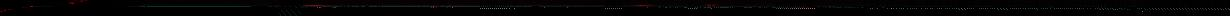Blue cone: (22, 7, 27, 8), (7, 9, 12, 10)
Yellow cone: (704, 4, 718, 7), (1094, 6, 1109, 8)
